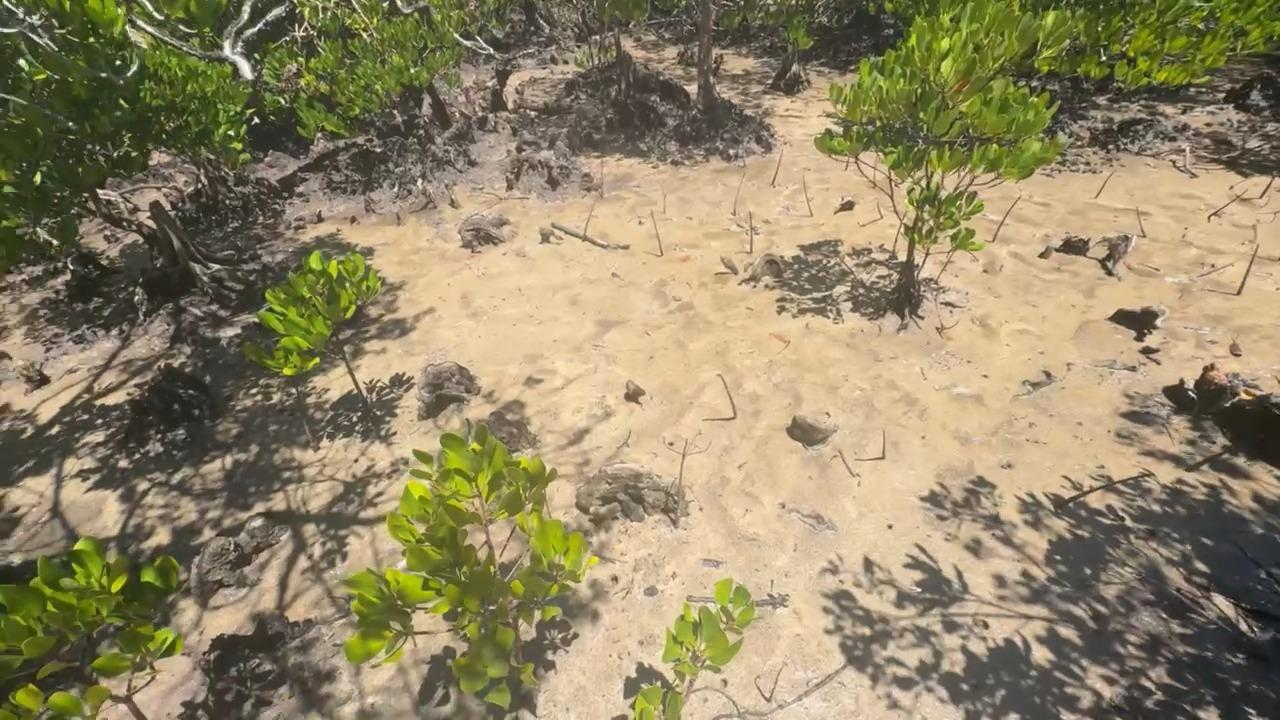Tree: (634, 578, 755, 720), (1058, 472, 1153, 507), (935, 227, 988, 284), (992, 195, 1021, 242), (1236, 244, 1259, 295), (675, 439, 688, 529), (1208, 189, 1248, 218), (891, 207, 909, 259), (718, 374, 737, 419), (581, 198, 599, 244), (650, 210, 664, 256), (768, 665, 784, 704), (733, 172, 746, 216), (1094, 172, 1114, 200), (802, 174, 814, 217), (772, 149, 784, 186), (1260, 174, 1276, 201), (1137, 206, 1146, 238), (873, 154, 880, 188), (748, 211, 752, 254), (601, 154, 604, 200), (876, 201, 883, 218), (882, 429, 886, 458), (663, 190, 667, 214)
